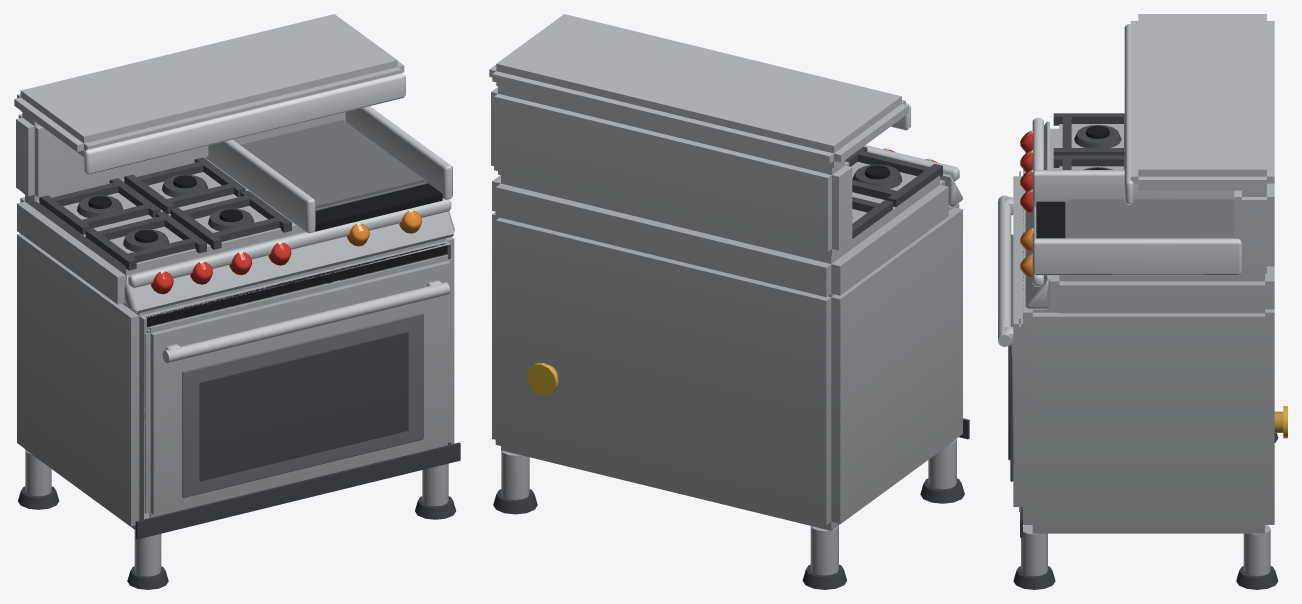
The model's file is SM_Range_Com_4Burner_Griddle_10.glb.
3 views of the same model, side by side, from view 1: azimuth 30°, elevation 25°; view 2: azimuth 150°, elevation 25°; view 3: azimuth 270°, elevation 25° (orthographic). The views are drawn at different scales.
Parts seen in each view (by area): view 1: SM_Range_Com_4Burner_Griddle_10; view 2: SM_Range_Com_4Burner_Griddle_10; view 3: SM_Range_Com_4Burner_Griddle_10.
Part boxes in pixels (box(x1,y1,x2,y2)): SM_Range_Com_4Burner_Griddle_10: box(14, 14, 460, 589); SM_Range_Com_4Burner_Griddle_10: box(489, 14, 969, 589); SM_Range_Com_4Burner_Griddle_10: box(998, 14, 1287, 589).
Size of the model in its own units: 1 by 1.2 by 0.755.
Materials: 1 (1 with a texture image).
